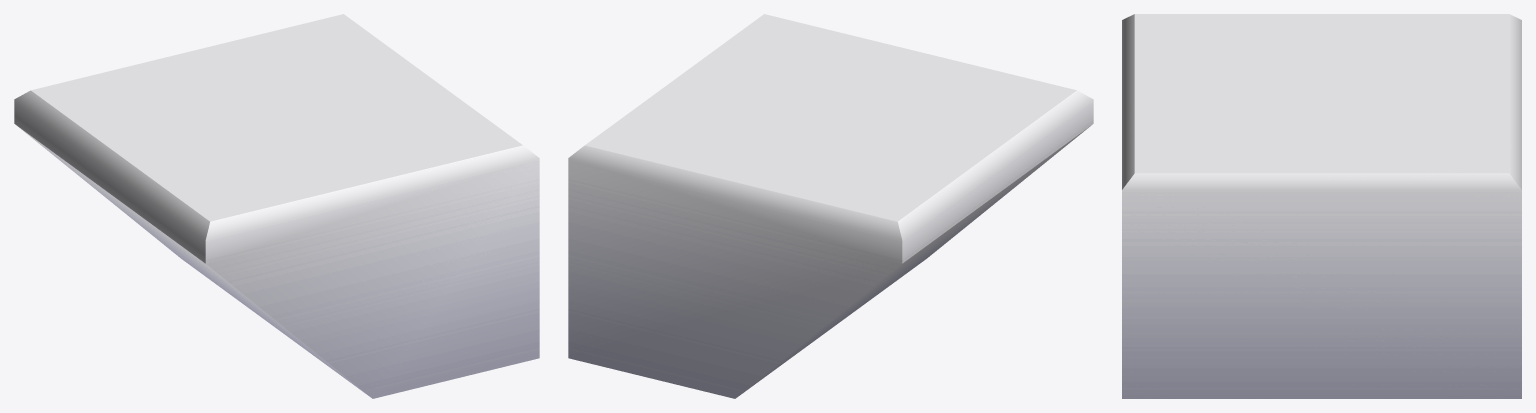
Rendered from brick-kit--none-hq-brick-slope-inverted-2x2.glb.
The picture shows the model from 3 angles, left to right: view 1: azimuth 30°, elevation 25°; view 2: azimuth 150°, elevation 25°; view 3: azimuth 270°, elevation 25°; orthographic projection. The views are drawn at different scales.
Parts seen in each view (by area): view 1: none-hq-brick-slope-inverted-2x2; view 2: none-hq-brick-slope-inverted-2x2; view 3: none-hq-brick-slope-inverted-2x2.
Part boxes in pixels (left/top/right/bottom): none-hq-brick-slope-inverted-2x2: left=14, top=14, right=539, bottom=398; none-hq-brick-slope-inverted-2x2: left=568, top=14, right=1093, bottom=398; none-hq-brick-slope-inverted-2x2: left=1122, top=14, right=1521, bottom=398.
Size of the model in its own units: 0.159 by 0.096 by 0.158.
Materials: 1 (1 with a texture image).
